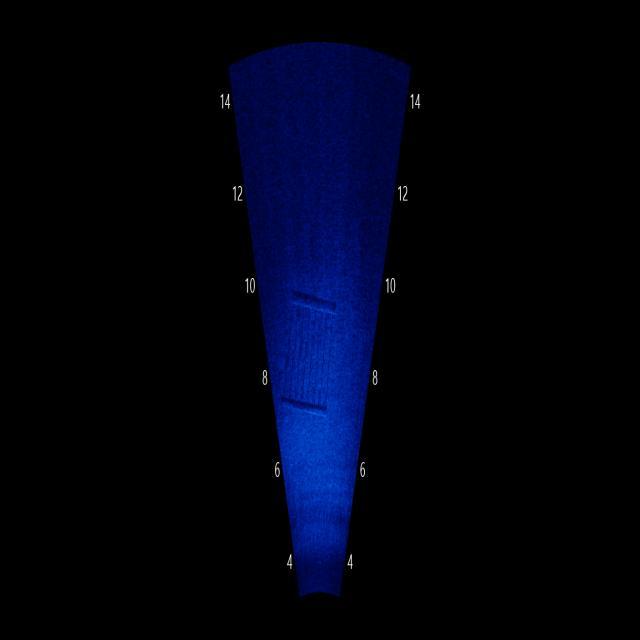square: (277, 275, 348, 434)
